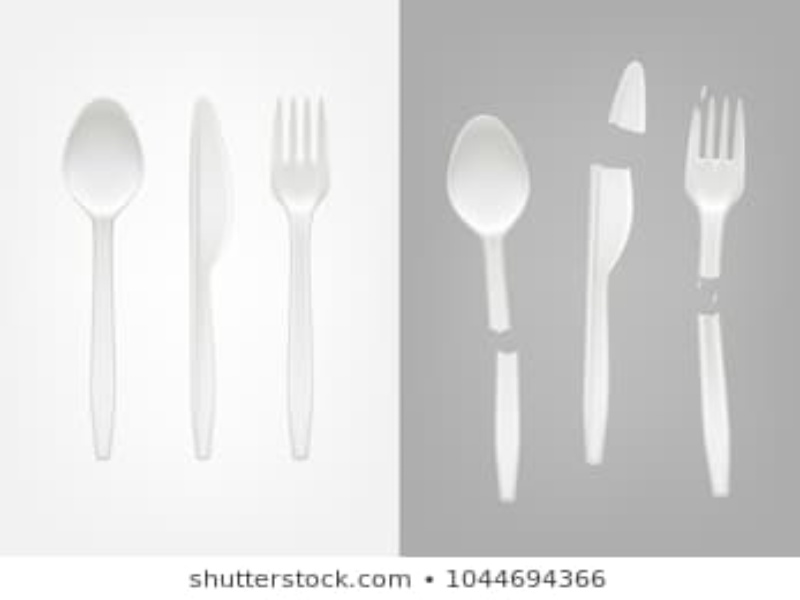plastic-silverware: (57, 95, 148, 463), (267, 93, 332, 458), (183, 96, 241, 467), (444, 112, 536, 338), (683, 85, 751, 282)
